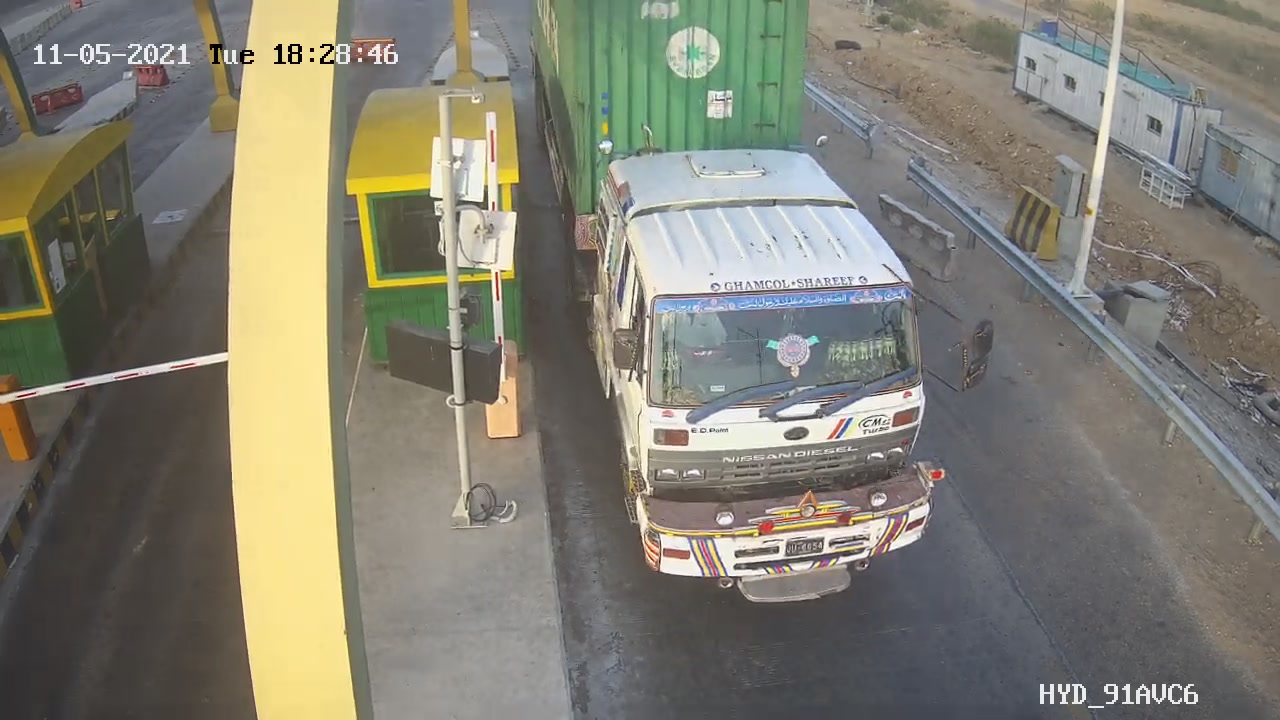F6: (527, 1, 951, 615)
